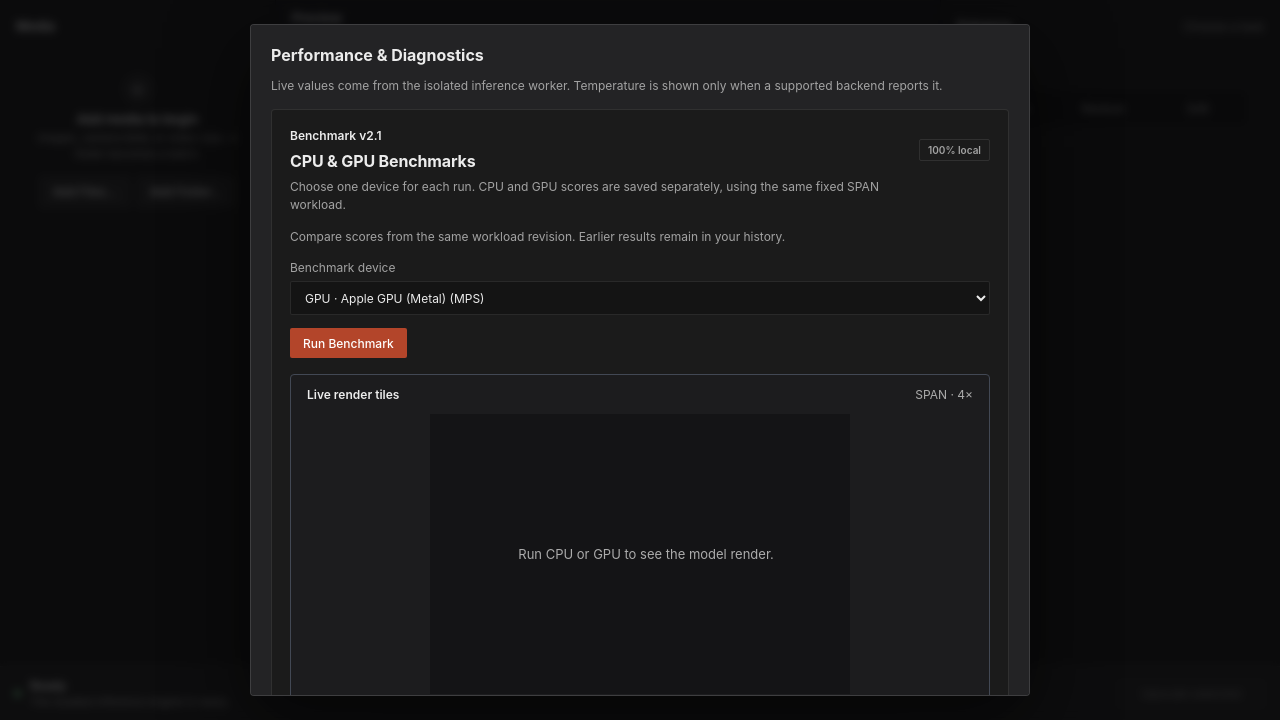
Test: LocalSR desktop interface › keeps benchmark launch errors visible beside a retryable button
The image size is (1280, 720).
What coordinates should you click on to do the following:
click the button "Run Benchmark"
I would click on:
 (348, 343)
Its box is [290,328,407,358].
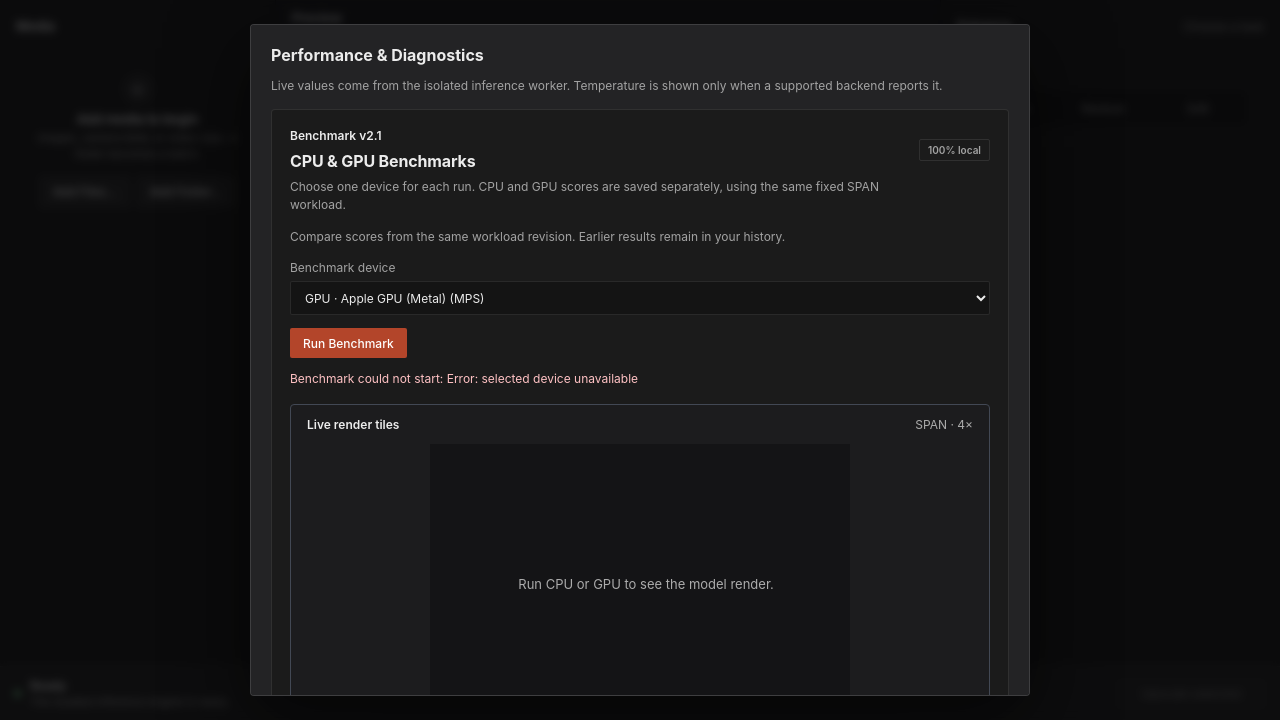
Expected: the message shows "selected device unavailable", [290,371,638,386]
